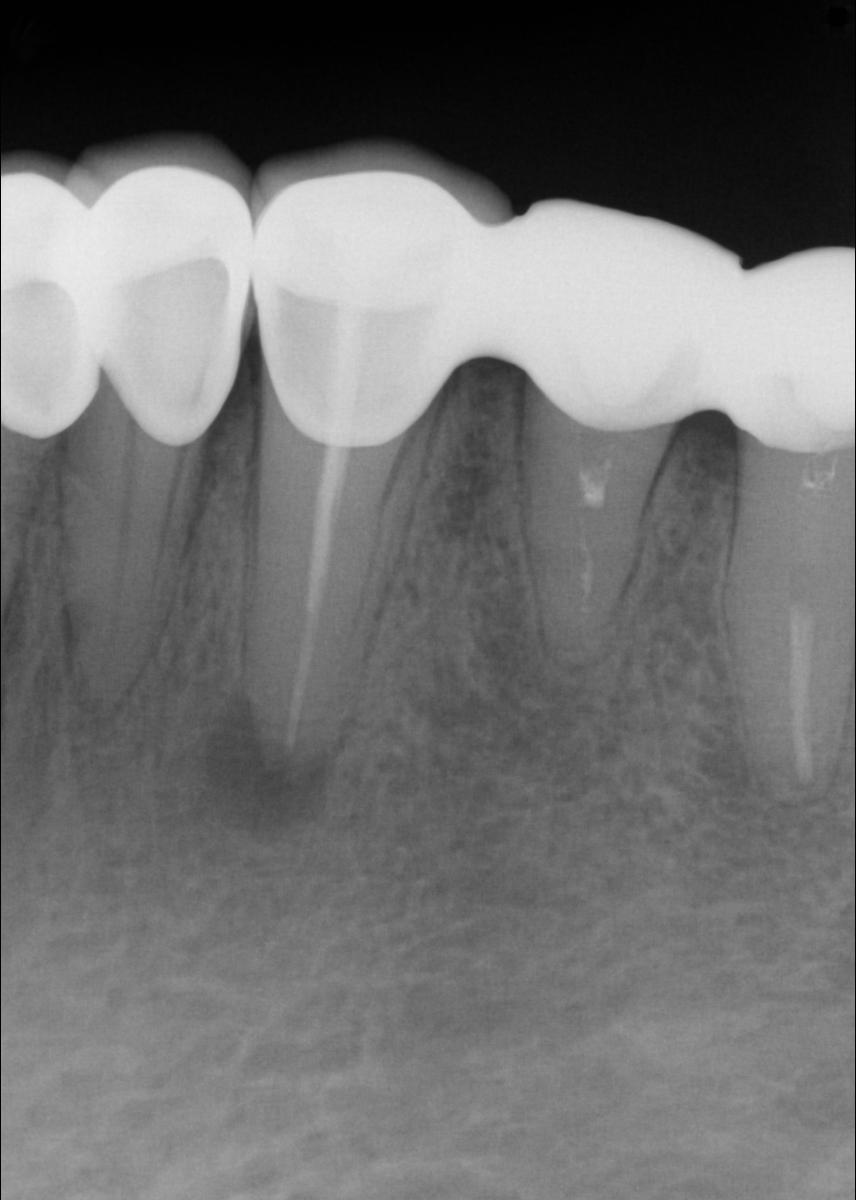Furcation Involvement: (205, 689, 354, 846)
